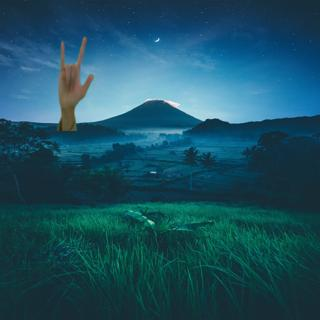ILY: (55, 33, 96, 109)
